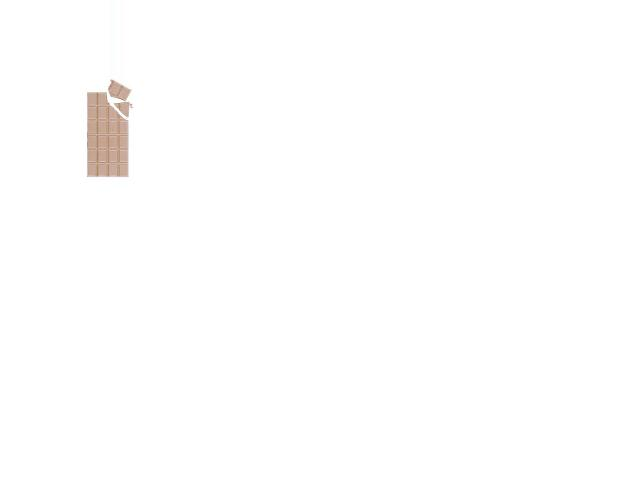chocolate: (80, 78, 141, 178)
